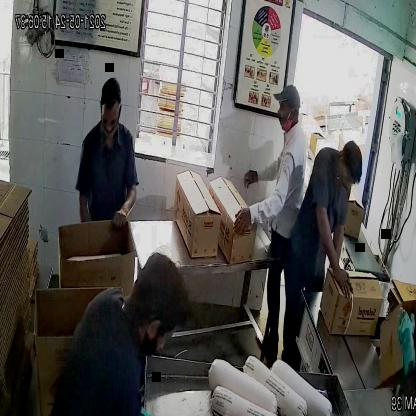goggles: (97, 102, 122, 130)
